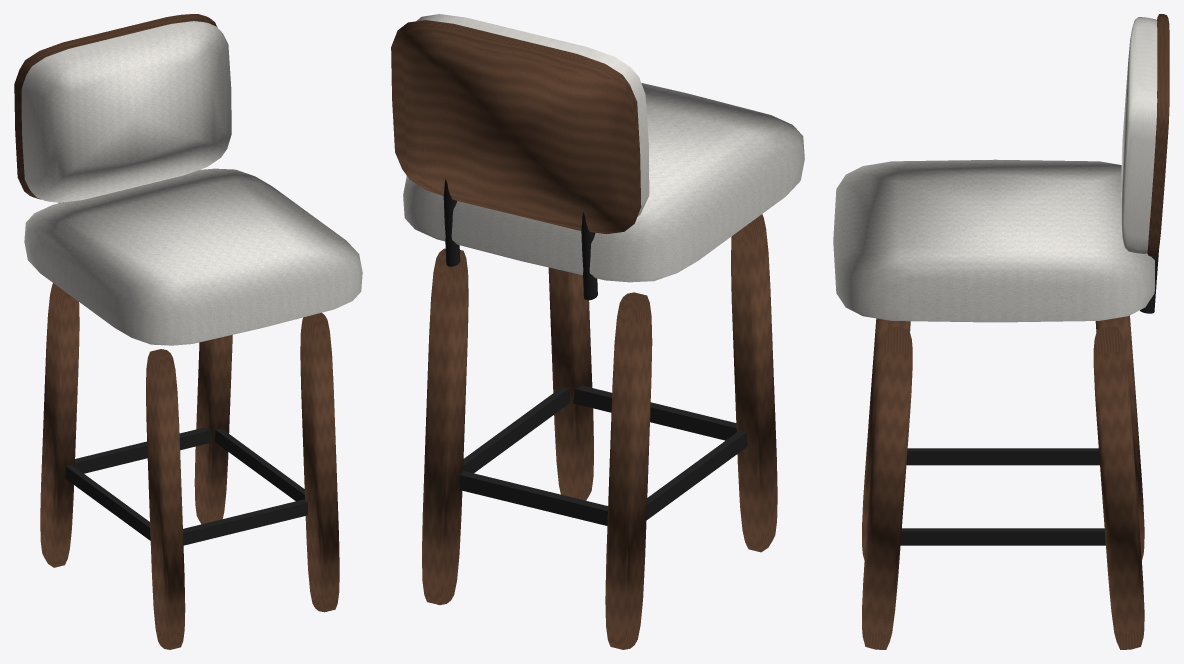
3 views of the same model, side by side, from view 1: azimuth 30°, elevation 25°; view 2: azimuth 150°, elevation 25°; view 3: azimuth 270°, elevation 25° (orthographic). The views are drawn at different scales.
Visible parts, largest first — view 1: 1 seat, 2 backrest, 7 leg_front_left, 8 leg_front_right, 9 leg_back_left, 10 leg_back_right, 3 backrest_frame, 11 footrest_front, 12 footrest_back, 14 footrest_right, 13 footrest_left; view 2: 3 backrest_frame, 1 seat, 9 leg_back_left, 10 leg_back_right, 7 leg_front_left, 8 leg_front_right, 2 backrest, 12 footrest_back, 11 footrest_front, 14 footrest_right, 13 footrest_left, 4 backrest_support_left (+1 smaller); view 3: 1 seat, 10 leg_back_right, 8 leg_front_right, 2 backrest, 14 footrest_right, 13 footrest_left, 3 backrest_frame, 9 leg_back_left, 7 leg_front_left.
Boxes of the visible parts, x1,y1,x2,y2 form: 1 seat: (24, 168, 362, 345); 2 backrest: (21, 21, 231, 202); 7 leg_front_left: (146, 349, 185, 649); 8 leg_front_right: (300, 312, 339, 612); 9 leg_back_left: (40, 283, 79, 567); 10 leg_back_right: (194, 335, 232, 524); 3 backrest_frame: (14, 14, 217, 199); 11 footrest_front: (183, 499, 307, 545); 12 footrest_back: (74, 427, 212, 473); 14 footrest_right: (215, 428, 304, 501); 13 footrest_left: (65, 465, 150, 540); 3 backrest_frame: (391, 20, 641, 234); 1 seat: (403, 83, 804, 282); 9 leg_back_left: (605, 292, 652, 649); 10 leg_back_right: (422, 248, 468, 604); 7 leg_front_left: (731, 214, 777, 552); 8 leg_front_right: (548, 267, 593, 500); 2 backrest: (416, 14, 649, 216); 12 footrest_back: (459, 471, 607, 525); 11 footrest_front: (573, 385, 736, 440); 14 footrest_right: (463, 386, 569, 473); 13 footrest_left: (646, 430, 747, 520); 4 backrest_support_left: (581, 212, 597, 300); 1 seat: (833, 159, 1155, 322); 10 leg_back_right: (1093, 326, 1144, 649); 8 leg_front_right: (862, 326, 912, 649); 2 backrest: (1121, 17, 1157, 253); 14 footrest_right: (900, 528, 1105, 545); 13 footrest_left: (906, 448, 1099, 465); 3 backrest_frame: (1147, 14, 1169, 256); 9 leg_back_left: (1095, 315, 1144, 560); 7 leg_front_left: (862, 318, 910, 560).
Bounding box in the file's own units: 0.49 × 1 × 0.55.
3 materials, 2 textured.
